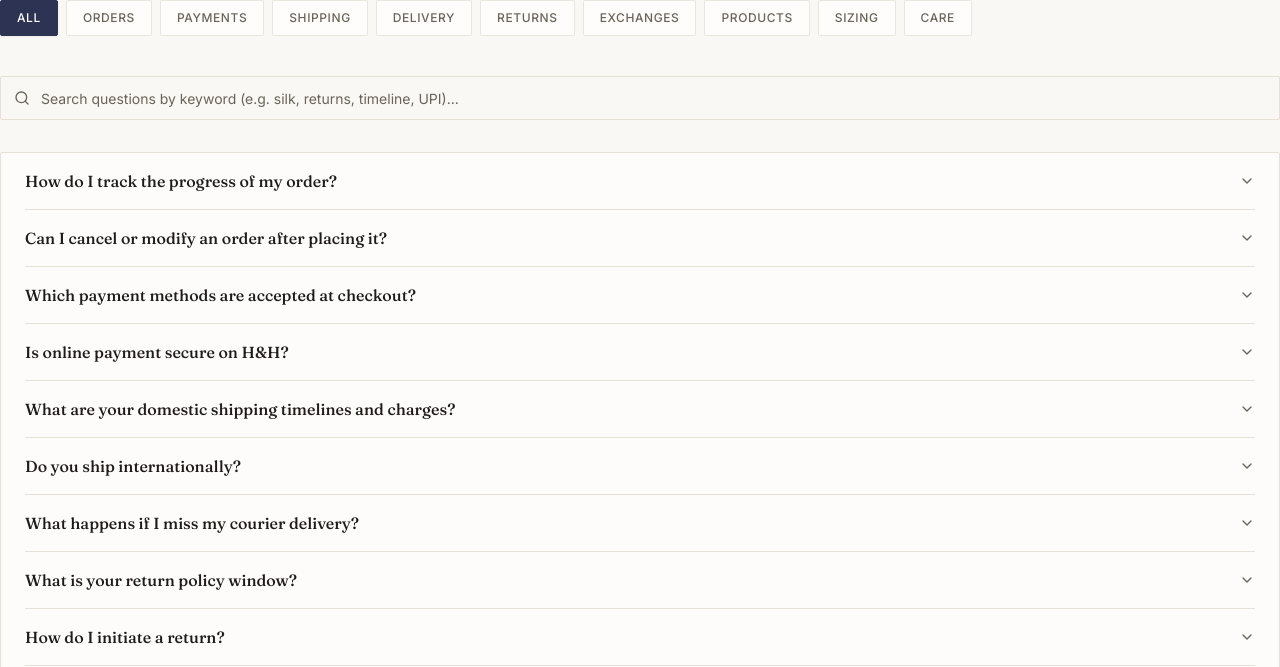
Sprint 11.8: Comprehensive UX States & Accessibility Audit › 1. Global Empty States Catalog (Spec 11) › verifies FAQ empty state when search produces no matching questions
The image size is (1280, 667).
Trigger empty search state
Replace the text in the search field with "zzzz-unmatched" at [640, 98], box [0,76,1279,120]
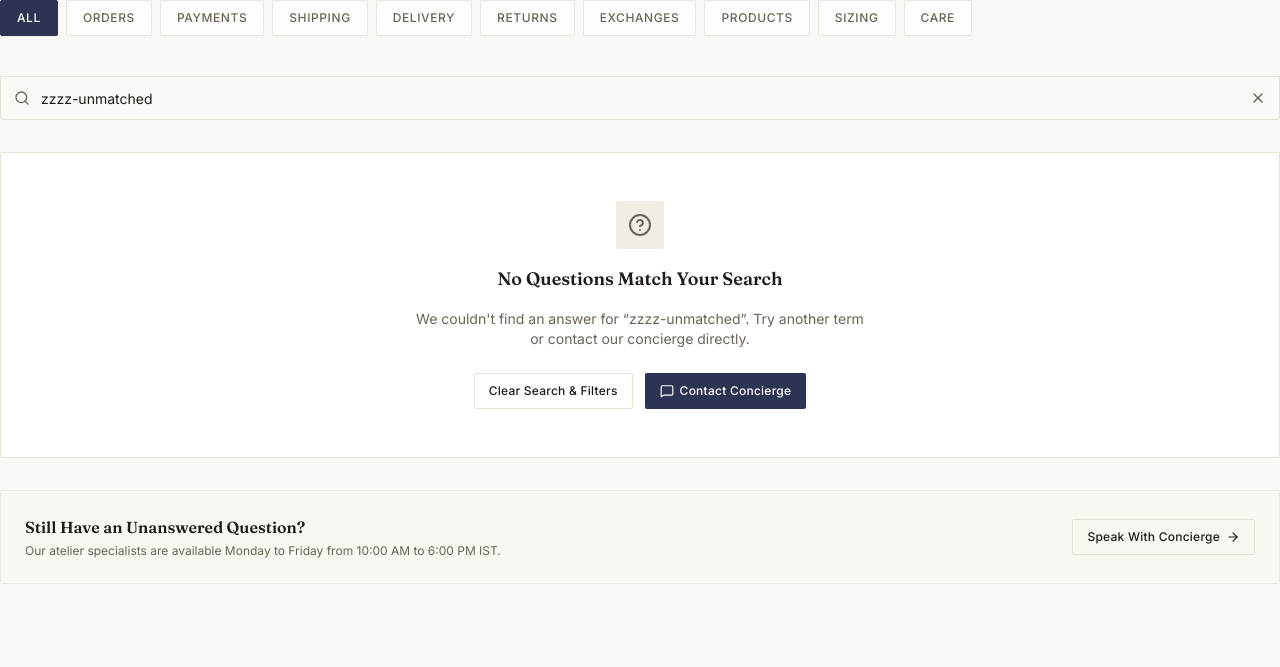
Check: the heading "No Questions Match Your Search" is shown, box [497,267,783,290]
Check: the text "We couldn't find an answer for “zzzz-unmatched”" is shown, box [416,309,864,349]
Check: the button "Clear Search & Filters" is shown, box [474,373,633,409]
